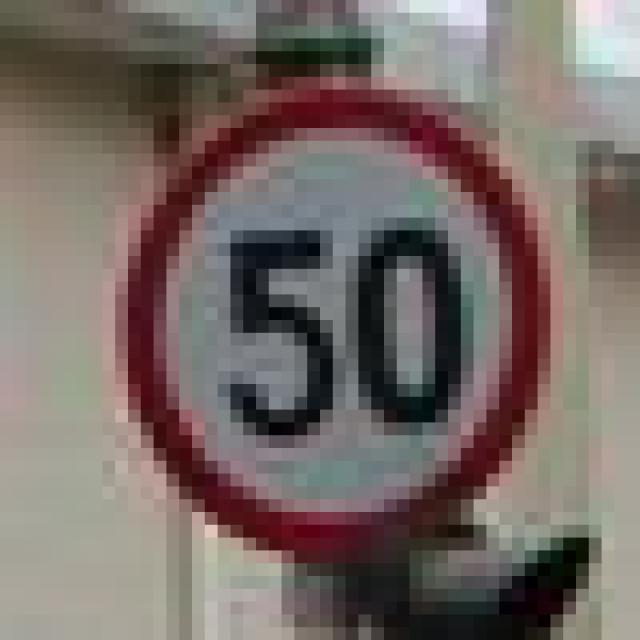speed_limit_30: (102, 64, 550, 550)
